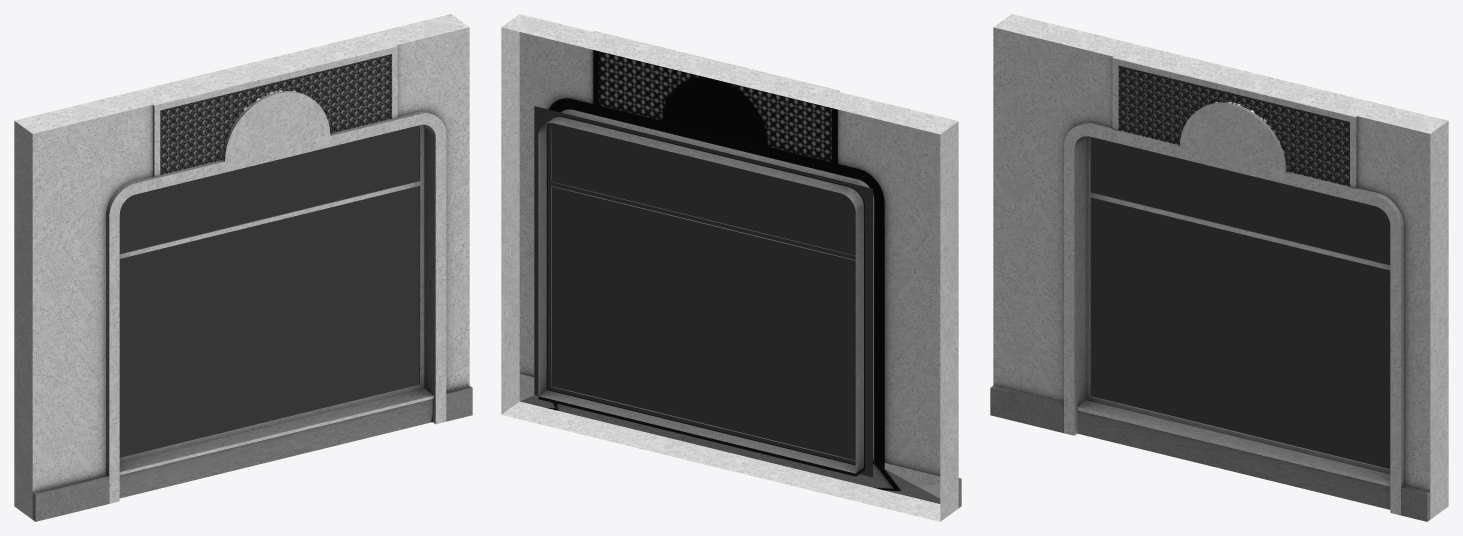
The model's file is floorfirst_2.glb.
3 views of the same model, side by side, from view 1: azimuth 30°, elevation 25°; view 2: azimuth 150°, elevation 25°; view 3: azimuth 330°, elevation 25° (orthographic).
Visible parts, largest first — view 1: floorfirst_2; view 2: floorfirst_2; view 3: floorfirst_2.
Boxes of the visible parts, x1,y1,x2,y2 form: floorfirst_2: [14, 14, 472, 521]; floorfirst_2: [501, 14, 961, 521]; floorfirst_2: [990, 14, 1448, 521].
Size of the model in its own units: 4.15 by 3.5 by 0.35.
Materials: 3 (2 with a texture image).
